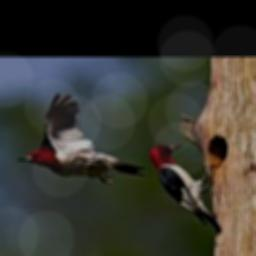Woodpecker: (17, 93, 146, 183), (148, 143, 222, 235)
